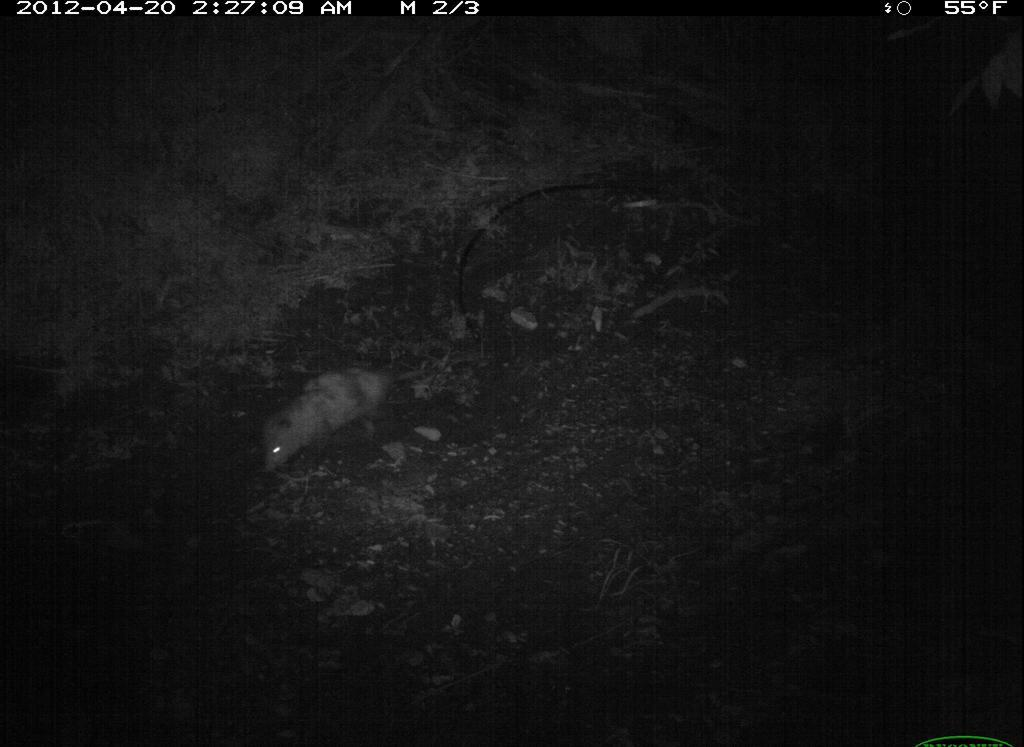opossum: (241, 344, 491, 495)
